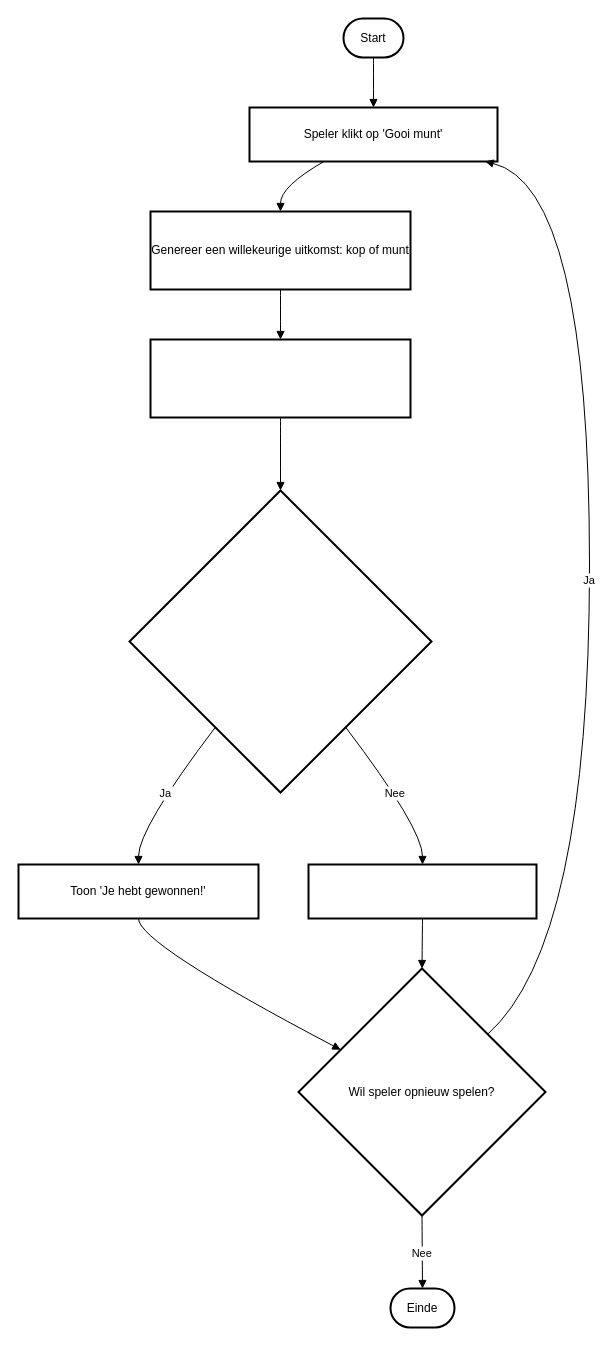
Some shapes in this 614 by 1345 pixel diagram are drawn without their labels. Each missing label, with the centre of its shape:
"Komt de uitkomst overeen met de keuze van de speler" goes at pixel 280 641.
"Toon 'Je hebt verloren!'" goes at pixel 422 891.
"Toon de uitkomst op het scherm" goes at pixel 280 378.
